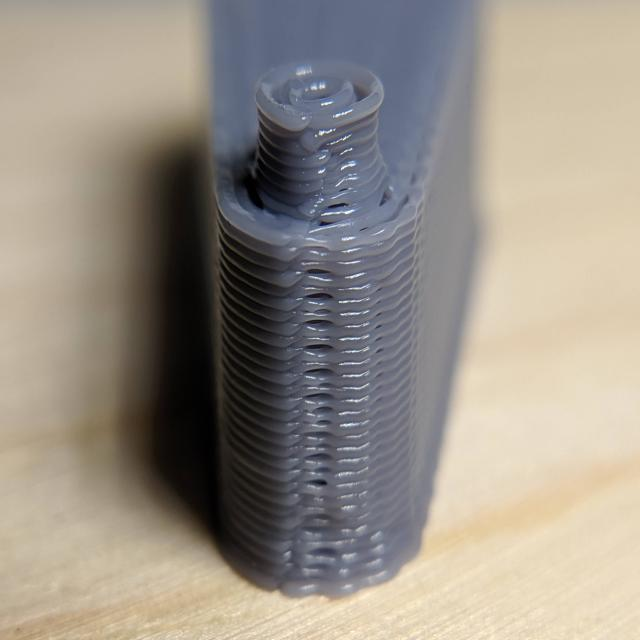cracks: (296, 255, 352, 525)
